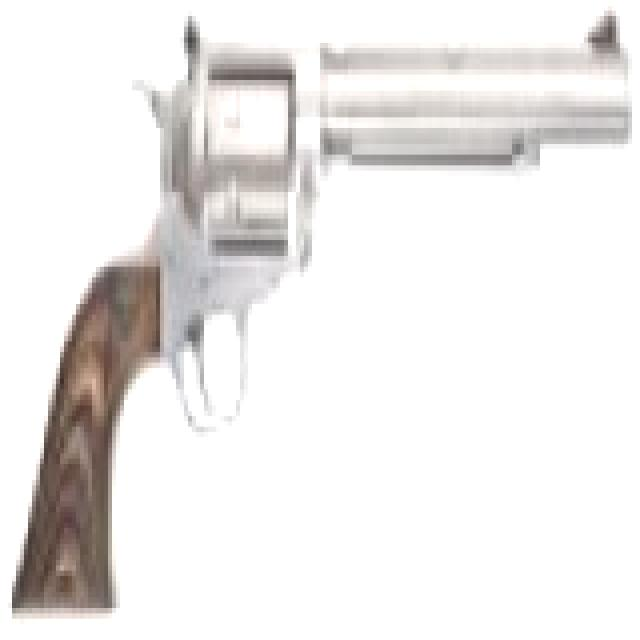pistol: (12, 0, 640, 608)
